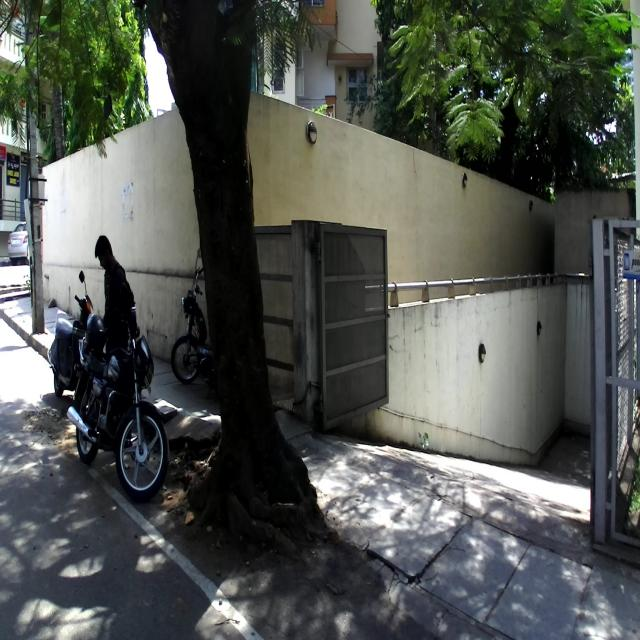motorcycle: (170, 246, 218, 400)
motorcycle_Hero: (66, 283, 169, 501)
